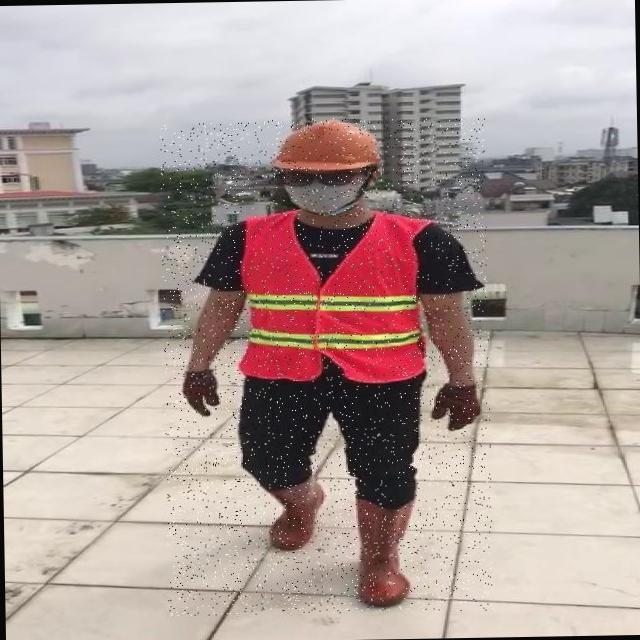boots: (352, 501, 418, 606), (266, 474, 326, 551)
helmet: (270, 117, 384, 169)
vest: (235, 210, 428, 384)
